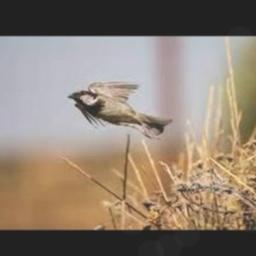Sparrow: (68, 80, 173, 139)
